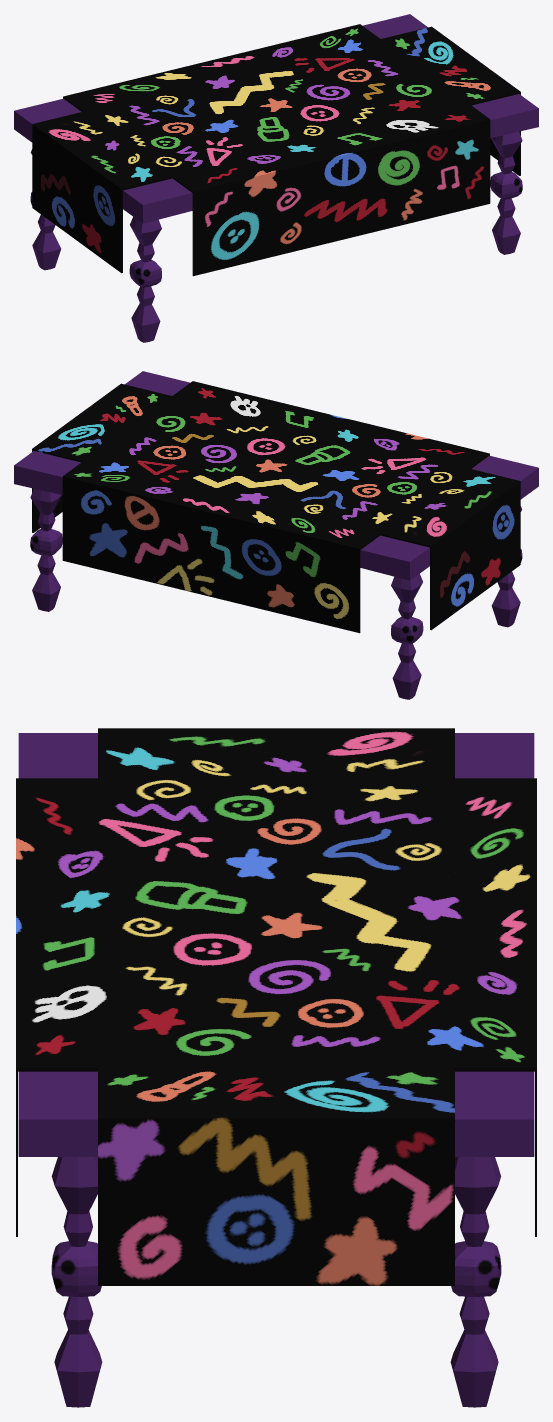
File: party_table_ver1.fbx
3 views of the same model, one above another, from view 1: azimuth 30°, elevation 25°; view 2: azimuth 150°, elevation 25°; view 3: azimuth 270°, elevation 25° (orthographic). The views are drawn at different scales.
Visible parts, largest first — view 1: party_table_ver1; view 2: party_table_ver1; view 3: party_table_ver1.
Boxes of the visible parts, <box> form: party_table_ver1: <box>14,14,538,342</box>; party_table_ver1: <box>14,371,538,699</box>; party_table_ver1: <box>16,728,536,1407</box>.
Bounding box in the file's own units: 2.75 × 1.55 × 0.9944.
Materials: 1 (1 with a texture image).
